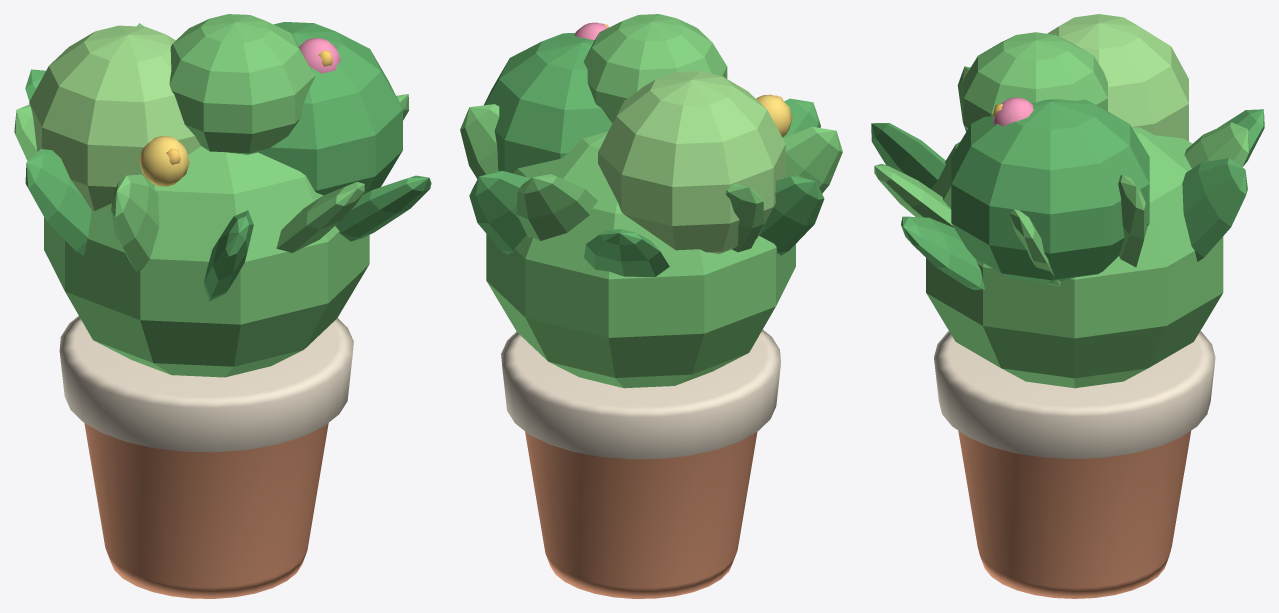
File: plant_indoor.glb
The picture shows the model from 3 angles, left to right: view 1: azimuth 30°, elevation 25°; view 2: azimuth 150°, elevation 25°; view 3: azimuth 270°, elevation 25°; orthographic projection. The views are drawn at different scales.
Visible parts, largest first — view 1: plant_indoor; view 2: plant_indoor; view 3: plant_indoor.
Part boxes in pixels (bbox=[...]): plant_indoor: bbox=[14, 14, 431, 598]; plant_indoor: bbox=[460, 14, 842, 598]; plant_indoor: bbox=[871, 14, 1264, 598].
Bounding box in the file's own units: 0.8266 × 1.19 × 0.8104.
1 material, 1 textured.
